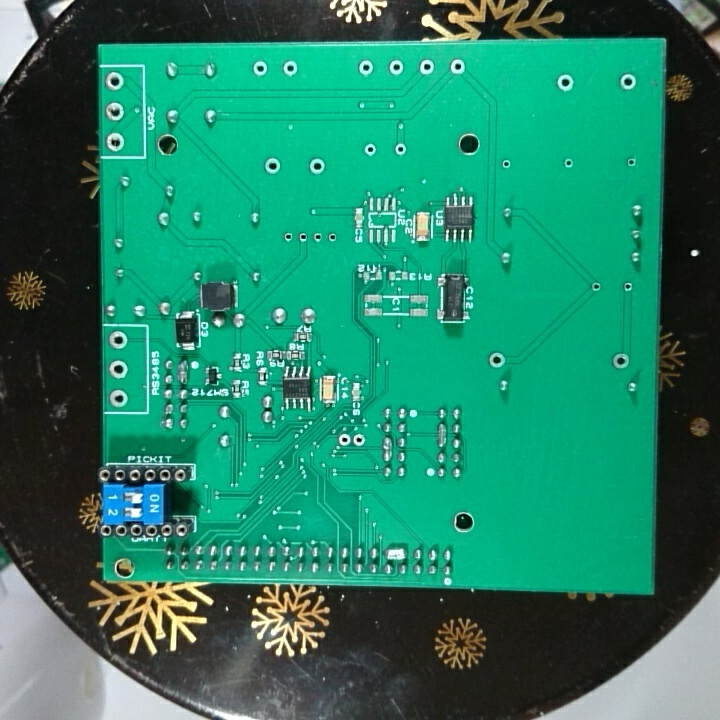F: (103, 130, 127, 154), (107, 357, 130, 382), (105, 328, 131, 350), (107, 386, 131, 408), (103, 69, 127, 91), (554, 72, 577, 94), (104, 100, 126, 122), (307, 155, 328, 176), (486, 349, 507, 370), (448, 56, 468, 78), (617, 70, 637, 92), (610, 350, 632, 370), (356, 56, 375, 79), (417, 56, 436, 79), (251, 58, 271, 78), (262, 155, 282, 175), (387, 56, 404, 79), (280, 58, 299, 78), (391, 140, 411, 158), (362, 140, 379, 160), (323, 227, 339, 247), (280, 229, 297, 246), (561, 155, 577, 173), (310, 227, 325, 245), (352, 430, 366, 449), (619, 279, 634, 296), (623, 154, 639, 169), (498, 156, 514, 171), (337, 431, 352, 447), (588, 278, 602, 294), (297, 229, 310, 246)
P: (383, 543, 409, 561), (177, 357, 191, 388), (435, 420, 448, 449), (381, 435, 394, 463)
